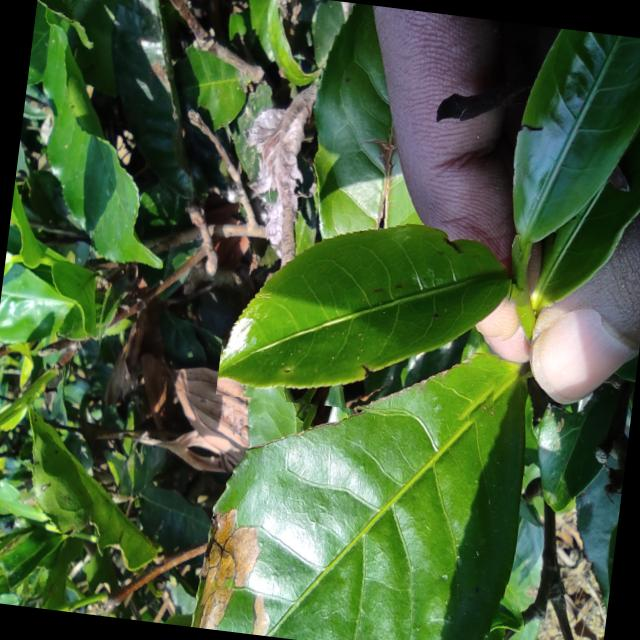Category B 2-4 days: (216, 200, 520, 428)
